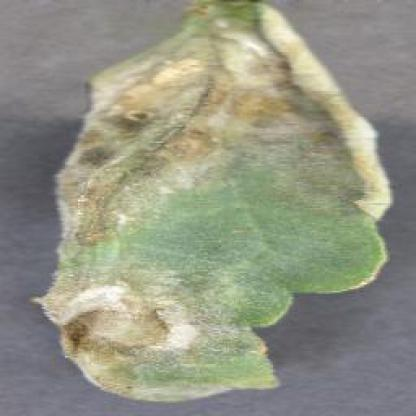bad leaf: (59, 4, 388, 388)
